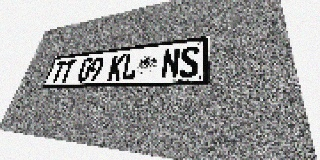0: (76, 57, 94, 82)
9: (87, 56, 105, 82)
K: (107, 54, 126, 81)
L: (120, 52, 140, 80)
N: (160, 47, 180, 79)
S: (179, 45, 199, 78)
T: (59, 60, 76, 83), (50, 61, 67, 83)
